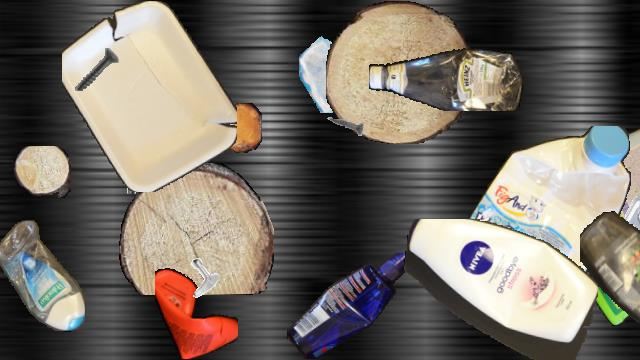glass: (299, 29, 383, 113), (467, 199, 529, 261)
metal: (65, 39, 127, 101), (119, 147, 165, 193), (179, 256, 223, 300), (613, 194, 640, 256), (324, 106, 364, 146)
plastic: (448, 126, 634, 332), (62, 1, 236, 191), (402, 219, 598, 359), (286, 253, 416, 359), (369, 43, 523, 111), (560, 114, 640, 242), (0, 220, 84, 332), (580, 209, 640, 359), (155, 265, 237, 359), (586, 234, 640, 326)
wood: (326, 1, 470, 143), (119, 163, 273, 295), (102, 93, 194, 169), (14, 146, 70, 198), (219, 103, 261, 153)
